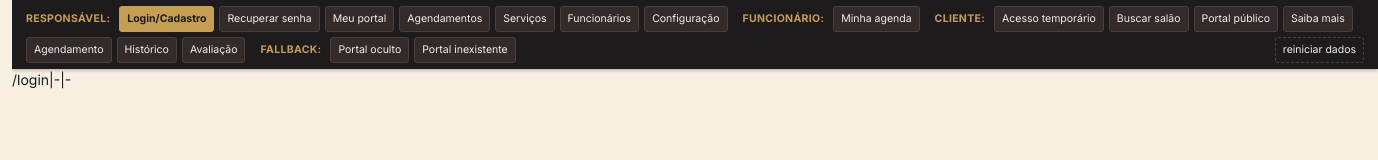
Scenario: barra de prototipo › abre cada tela ja com o perfil certo
The width and height of the screenshot is (1378, 160).
What coordinates should you click on to do the following:
click the button "Meu portal"
I would click on:
 (359, 19)
Its box is 325,6 -> 394,32.
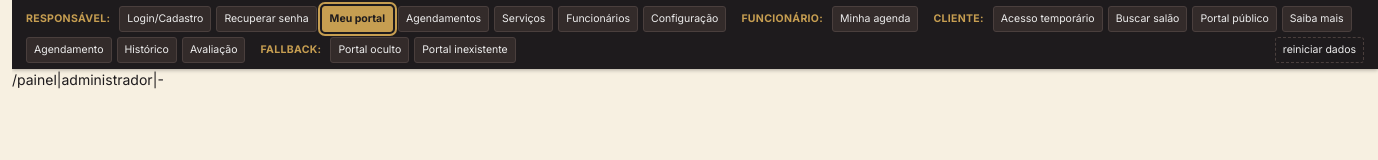
Expected: the text with test id "estado" reads "/painel|administrador|-", 12,71 -> 164,88
What coordinates should you click on to do the following:
click the button "Minha agenda"
I would click on:
 (875, 19)
Its box is 832,6 -> 918,32.
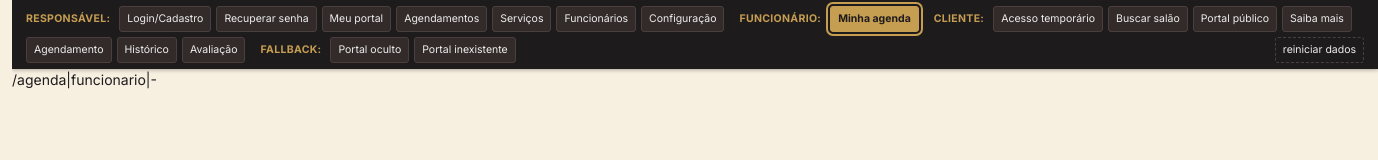
Expected: the text with test id "estado" reads "/agenda|funcionario|-", 12,71 -> 157,88
What coordinates should you click on to do the following:
click the button "Histórico"
I would click on:
 (147, 50)
Its box is 116,37 -> 177,63.
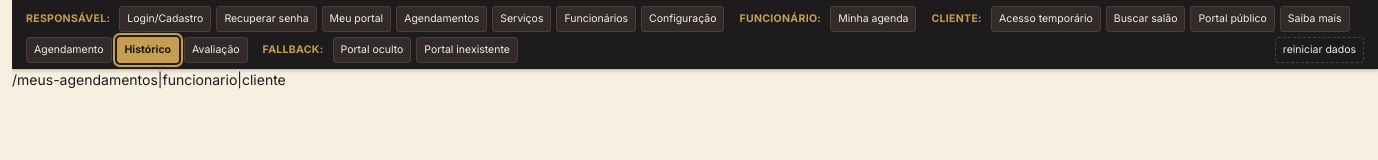
Expected: the text with test id "estado" reads "/meus-agendamentos|funcionario|cliente", 12,71 -> 286,88
What coordinates should you click on to do the following:
click the button "Login/Cadastro"
I would click on:
 (165, 19)
Its box is 119,6 -> 211,32.
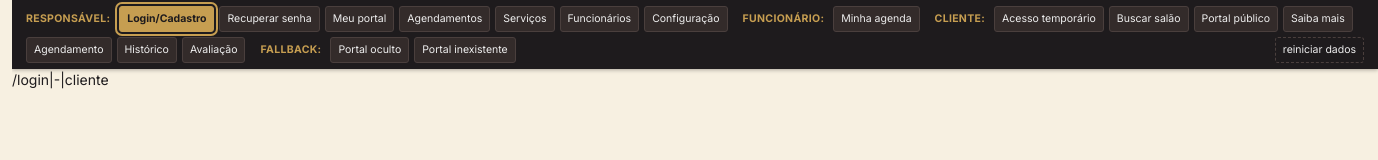
Expected: the text with test id "estado" reads "/login|-|cliente", 12,71 -> 109,88
What coordinates should you click on to do the following:
click the button "Acesso temporário"
I would click on:
 (1049, 19)
Its box is 994,6 -> 1104,32.
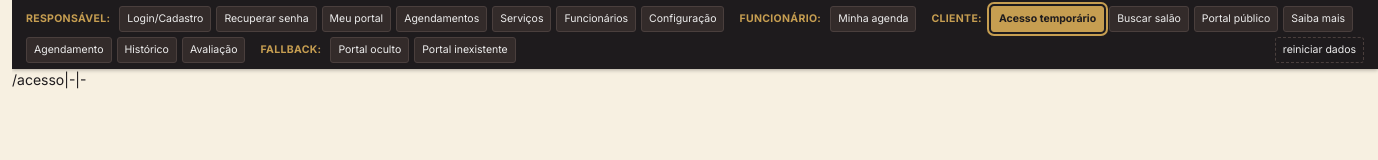
Expected: the text with test id "estado" reads "/acesso|-|-", 12,71 -> 86,88
What coordinates should you click on to do the following:
click the button "Portal oculto"
I would click on:
 (370, 50)
Its box is 330,37 -> 409,63.
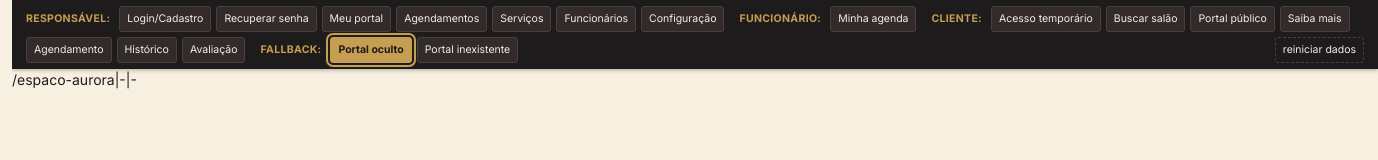
Expected: the text with test id "estado" reads "/espaco-aurora|-|-", 12,71 -> 137,88
